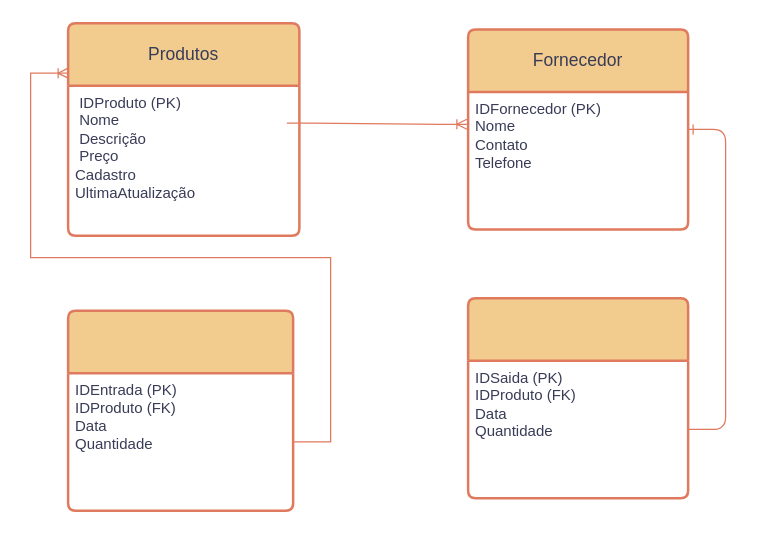
This 758x533 diagram has some shape labels left out. Here are the shapes that lost their labels. From the top down, the box of each, then its label:
(66, 309, 294, 511): Entrada de Estoque
(466, 296, 689, 499): Saída de Estoque
